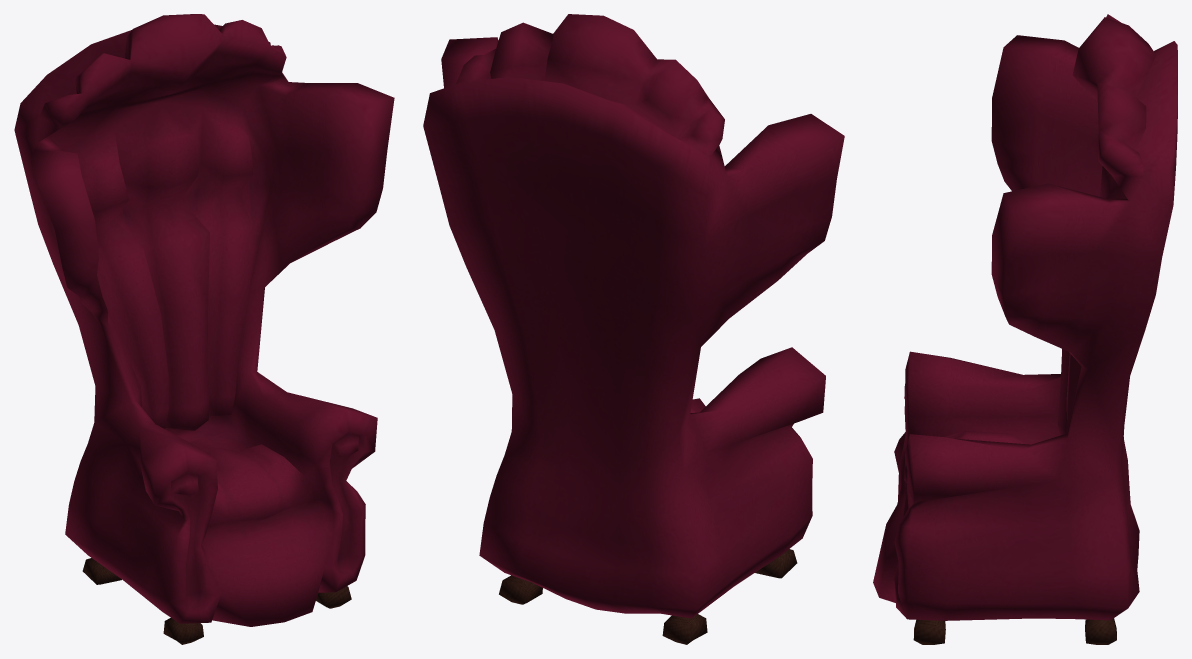
Rendered from chair.dae.
3 renders of one model, left to right at view 1: azimuth 30°, elevation 25°; view 2: azimuth 150°, elevation 25°; view 3: azimuth 270°, elevation 25°, orthographic. The views are drawn at different scales.
Parts seen in each view (by area): view 1: Armchair; view 2: Armchair; view 3: Armchair.
Part boxes in pixels (box(x1,y1,x2,y2)): Armchair: box(14, 14, 394, 644); Armchair: box(423, 14, 844, 644); Armchair: box(873, 14, 1177, 644).
Bounding box in the file's own units: 1.61 × 1.13 × 2.35.
Materials: 1 (1 with a texture image).
